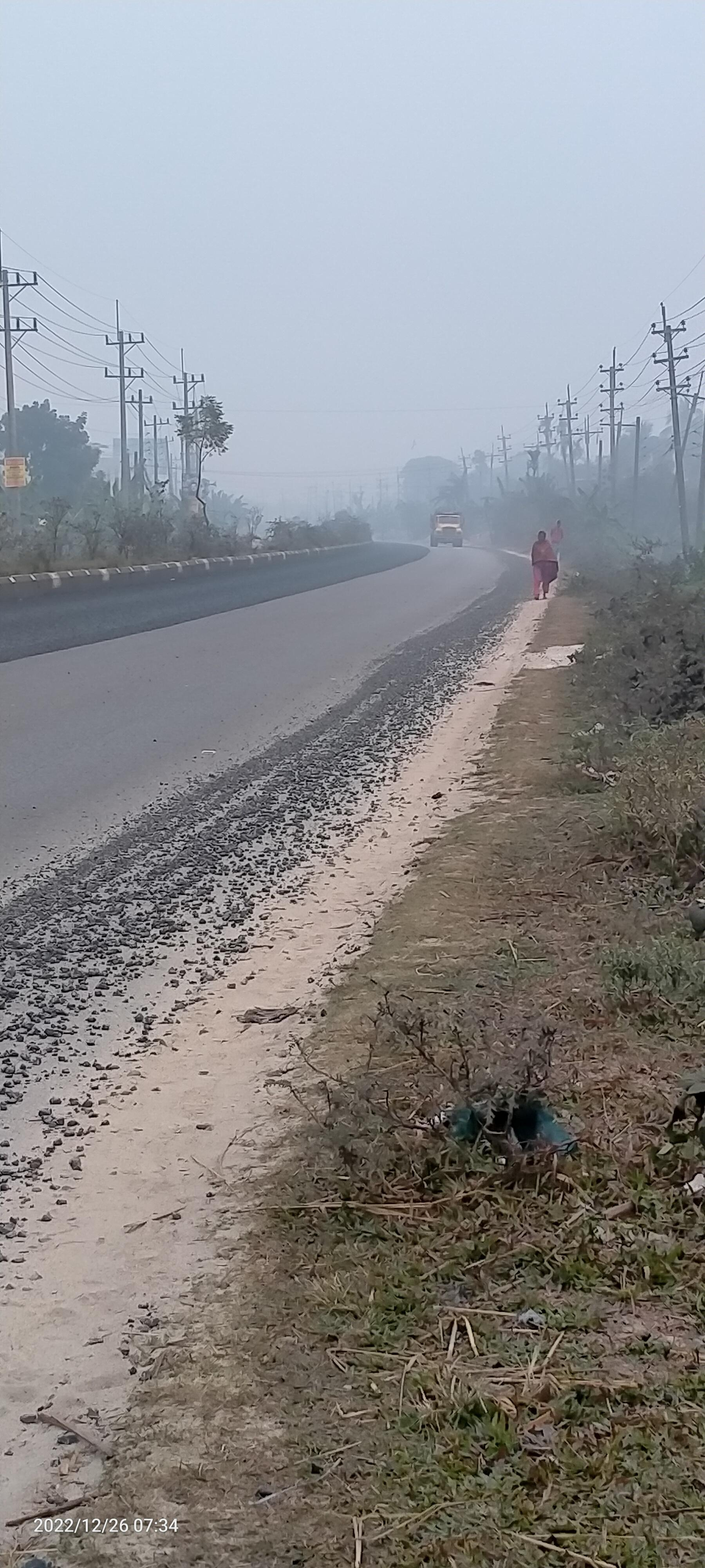Truck: (418, 498, 477, 554)
